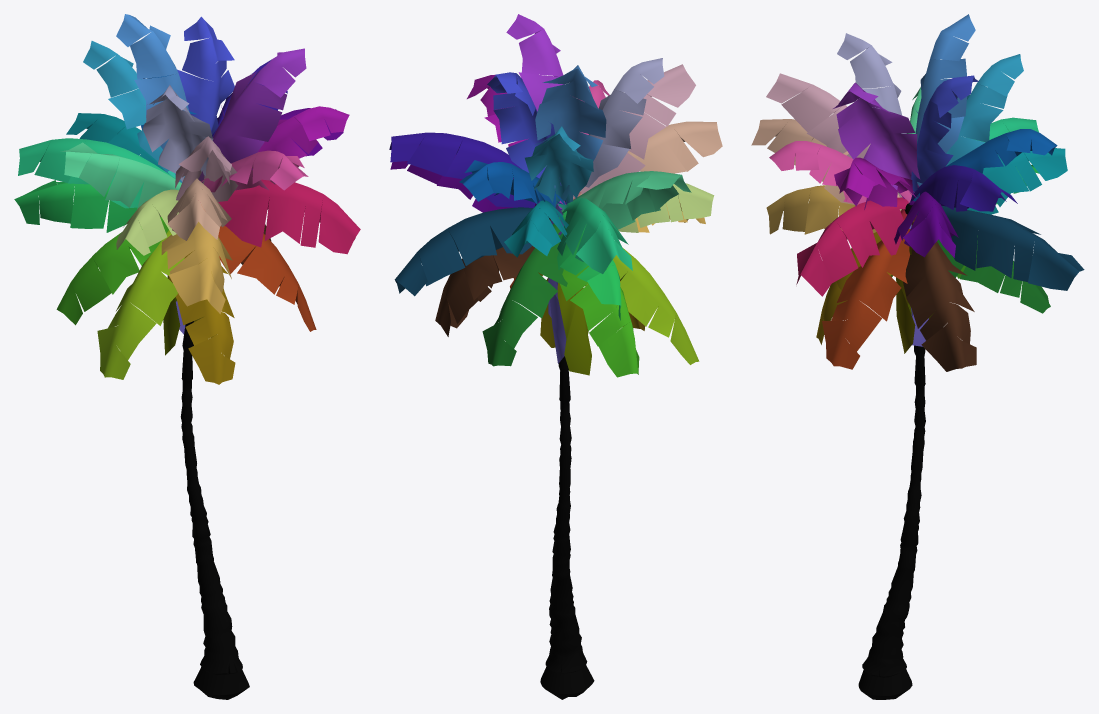
The model's file is SM_PalmCoconut_01.fbx.
3 renders of one model, left to right at view 1: azimuth 30°, elevation 25°; view 2: azimuth 150°, elevation 25°; view 3: azimuth 270°, elevation 25°, orthographic. The views are drawn at different scales.
Parts seen in each view (by area): view 1: SM_PalmCoconut_01_LOD0; view 2: SM_PalmCoconut_01_LOD0; view 3: SM_PalmCoconut_01_LOD0.
Boxes of the visible parts, box(x1,y1,x2,y2) form: SM_PalmCoconut_01_LOD0: box(14, 14, 360, 699); SM_PalmCoconut_01_LOD0: box(389, 14, 722, 699); SM_PalmCoconut_01_LOD0: box(751, 14, 1084, 699).
Bounding box in the file's own units: 711 × 733 × 1589.
